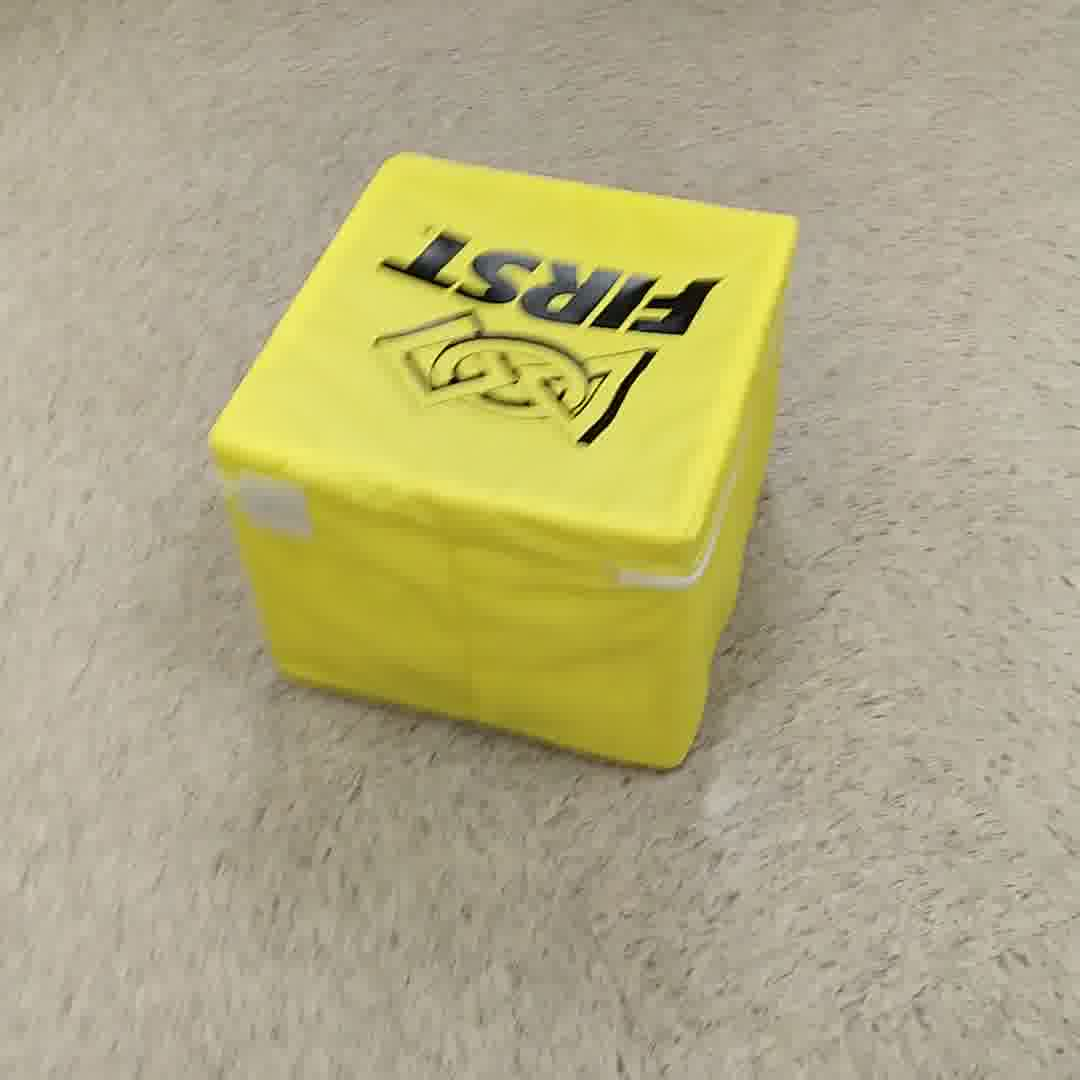box: (212, 120, 797, 784)
